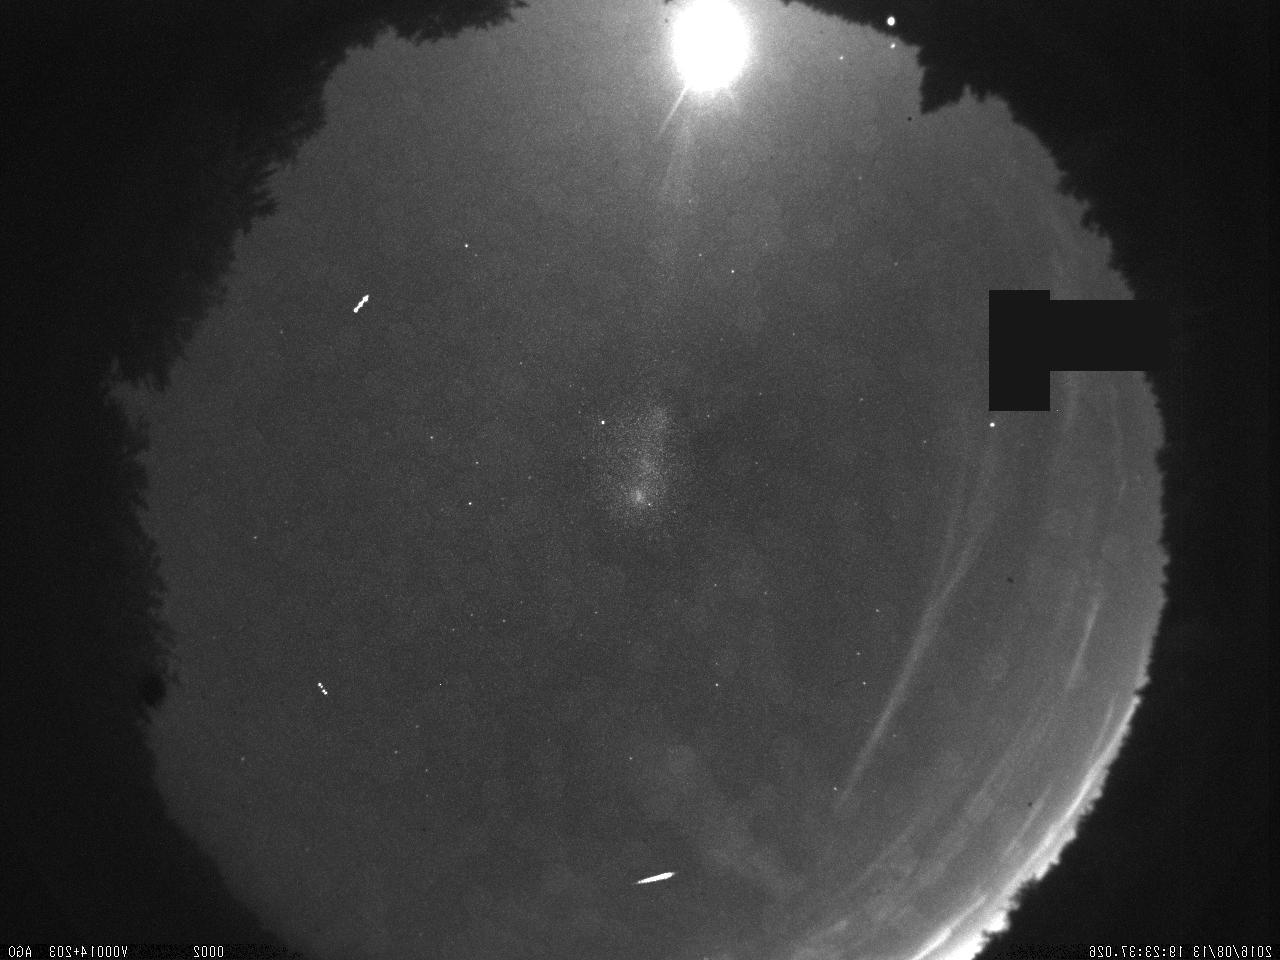meteor: (619, 863, 679, 896)
satelite: (348, 283, 373, 324), (312, 677, 333, 703)
